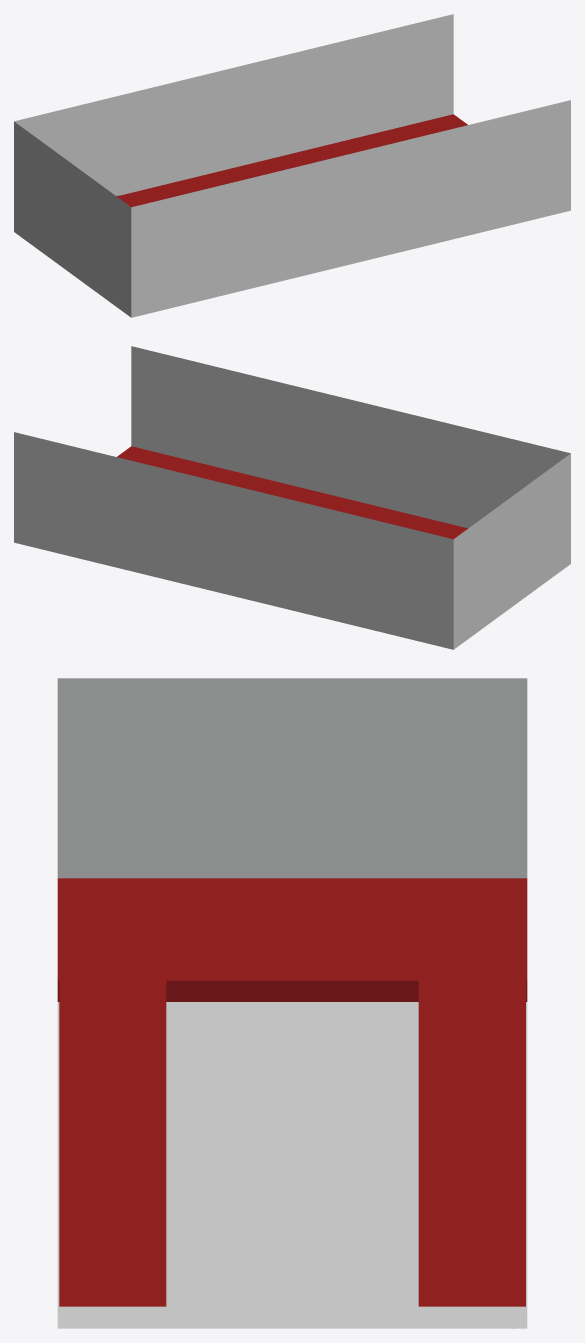
Rendered from showroom.glb.
The picture shows the model from 3 angles, top to bottom: view 1: azimuth 30°, elevation 25°; view 2: azimuth 150°, elevation 25°; view 3: azimuth 270°, elevation 25°; orthographic projection. The views are drawn at different scales.
Parts seen in each view (by area): view 1: Cube, Cube.002; view 2: Cube, Cube.002; view 3: Cube, Cube.002.
Boxes of the visible parts, bbox=[...] form: Cube: bbox=[14, 14, 570, 317]; Cube.002: bbox=[116, 114, 467, 207]; Cube: bbox=[14, 346, 570, 649]; Cube.002: bbox=[117, 446, 468, 539]; Cube: bbox=[57, 678, 527, 1328]; Cube.002: bbox=[57, 878, 527, 1306].
Size of the model in its own units: 2 by 0.4808 by 0.9253.
